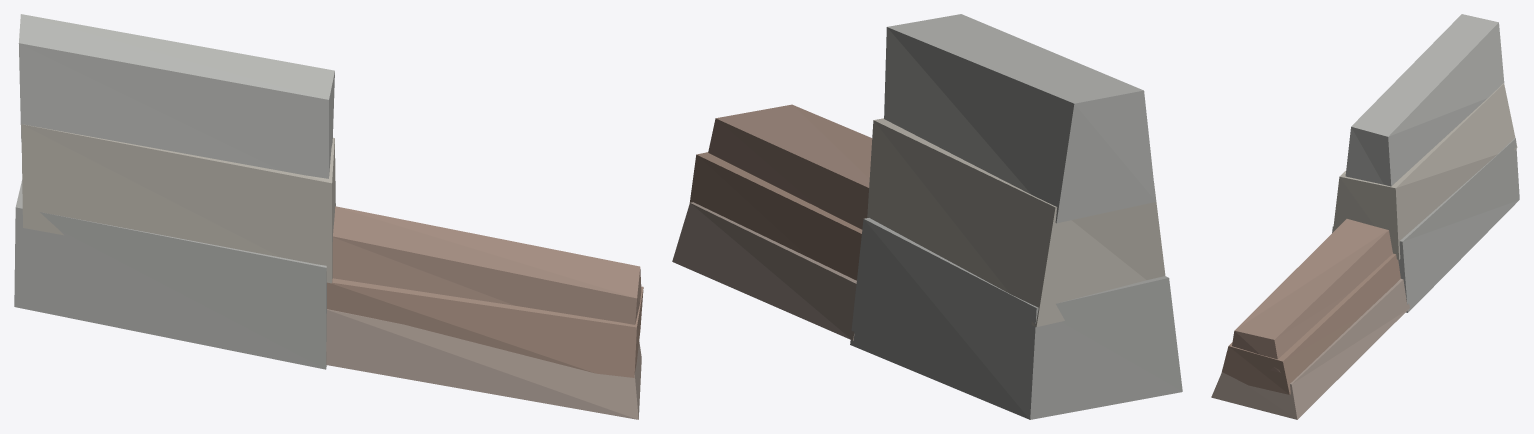
The model's file is farm_17_26_mid.glb.
3 views of the same model, side by side, from view 1: azimuth 30°, elevation 25°; view 2: azimuth 150°, elevation 25°; view 3: azimuth 270°, elevation 25° (orthographic). The views are drawn at different scales.
Visible parts, largest first — view 1: geometry_0; view 2: geometry_0; view 3: geometry_0.
Boxes of the visible parts, x1=… form: geometry_0: x1=14, y1=14, x2=643, y2=419; geometry_0: x1=672, y1=14, x2=1182, y2=419; geometry_0: x1=1211, y1=14, x2=1519, y2=419.
Size of the model in its own units: 3.08 by 1.99 by 2.32.
